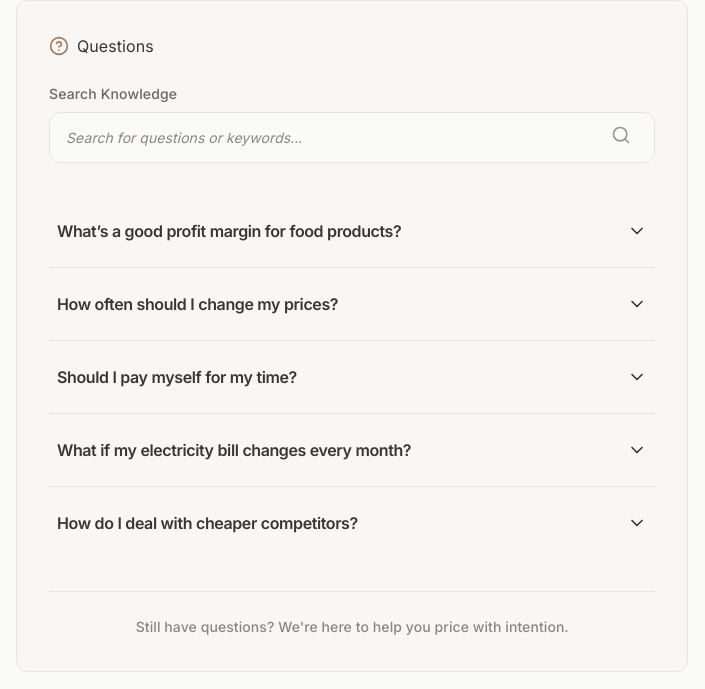
Test: FAQ › shows "no results" message when no match is found
In the field with placeholder "Search for questions or keywords...": (352, 138) [49,112,655,163], type "nonexistent keyword"
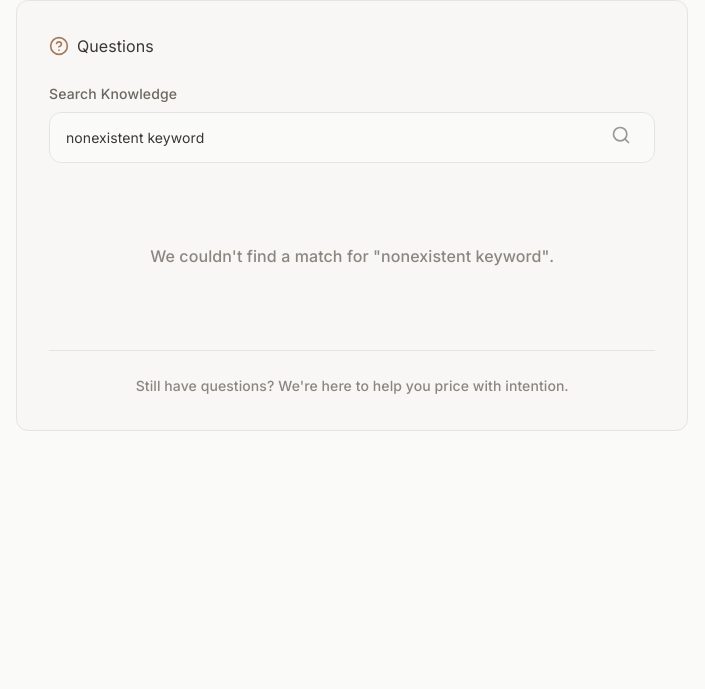
Check: the text "We couldn't find a match for \"nonexistent keyword\"." is shown, box [150,246,554,266]
